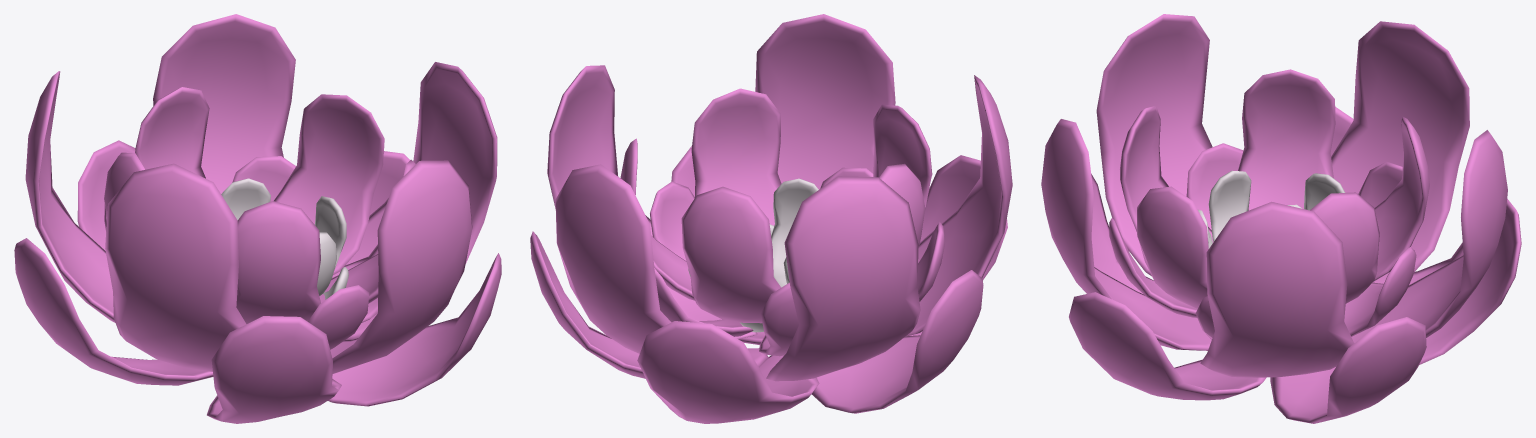
File: Peony.fbx
3 renders of one model, left to right at view 1: azimuth 30°, elevation 25°; view 2: azimuth 150°, elevation 25°; view 3: azimuth 270°, elevation 25°, orthographic. The views are drawn at different scales.
Visible parts, largest first — view 1: Icosphere.001; view 2: Icosphere.001; view 3: Icosphere.001.
Boxes of the visible parts, x1=… form: Icosphere.001: x1=14, y1=14, x2=501, y2=423; Icosphere.001: x1=530, y1=14, x2=1012, y2=423; Icosphere.001: x1=1041, y1=14, x2=1521, y2=423.
Bounding box in the file's own units: 25.82 × 17.07 × 25.9.
